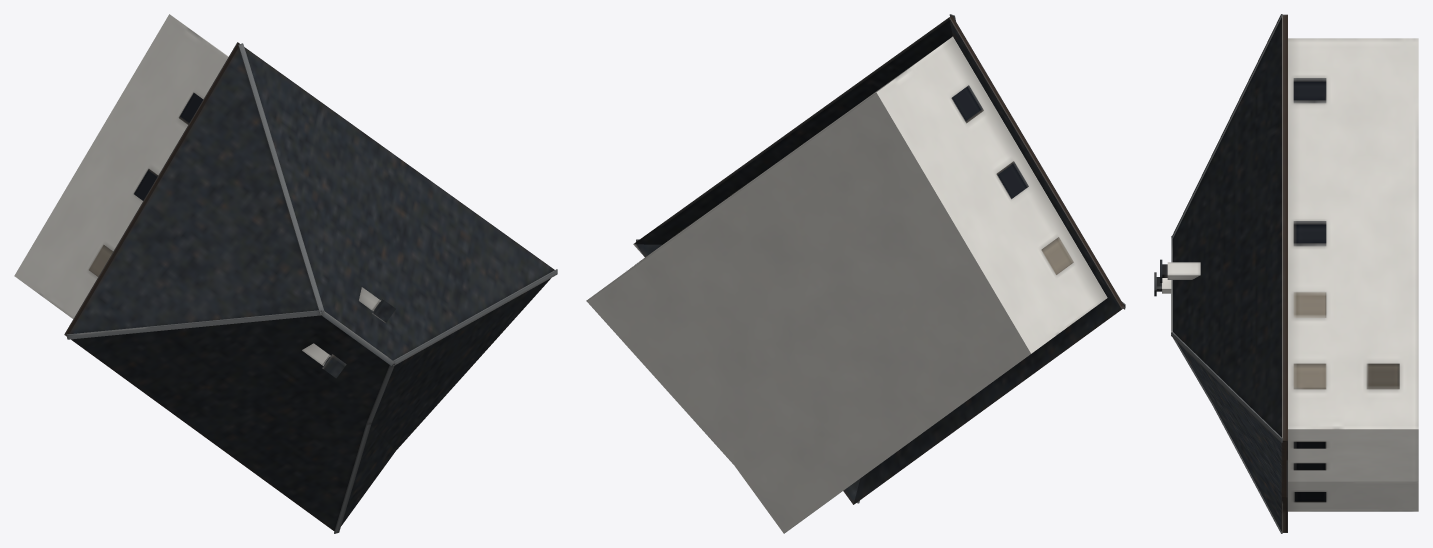
The model's file is house_b0185.obj.
3 renders of one model, left to right at view 1: azimuth 30°, elevation 25°; view 2: azimuth 150°, elevation 25°; view 3: azimuth 270°, elevation 25°, orthographic. The views are drawn at different scales.
Visible parts, largest first — view 1: house_b0185; view 2: house_b0185; view 3: house_b0185.
Part boxes in pixels (x1=…): house_b0185: x1=14, y1=14, x2=557, y2=533; house_b0185: x1=586, y1=14, x2=1125, y2=533; house_b0185: x1=1154, y1=14, x2=1418, y2=533.
Bounding box in the file's own units: 21.49 × 21.46 × 10.81.
Materials: 1 (1 with a texture image).
